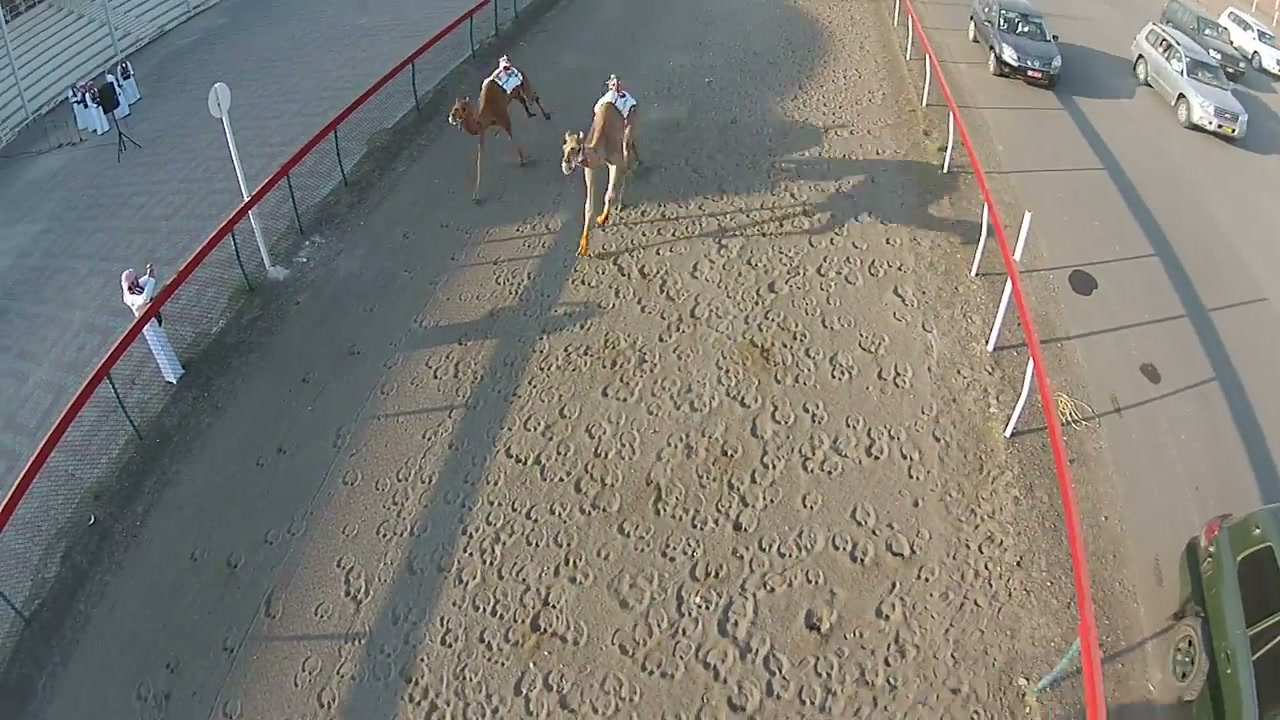animal_foot_print: (200, 0, 1073, 719)
